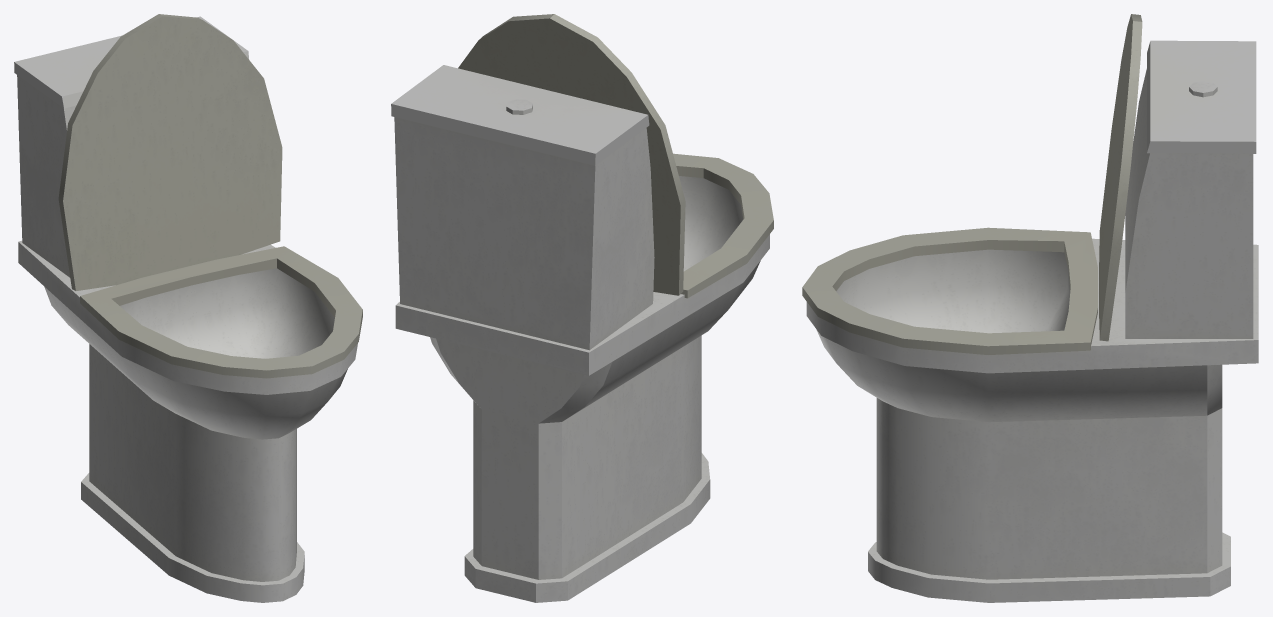
Rendered from Toilet.fbx.
3 views of the same model, side by side, from view 1: azimuth 30°, elevation 25°; view 2: azimuth 150°, elevation 25°; view 3: azimuth 270°, elevation 25° (orthographic). The views are drawn at different scales.
Parts seen in each view (by area): view 1: Cube.001, Cube.003; view 2: Cube.001, Cube.003; view 3: Cube.001, Cube.003.
Part boxes in pixels (<box>): Cube.001: <box>14,16,362,602</box>; Cube.003: <box>58,14,282,290</box>; Cube.001: <box>391,65,773,602</box>; Cube.003: <box>458,14,685,295</box>; Cube.001: <box>802,40,1258,602</box>; Cube.003: <box>1099,14,1142,341</box>.
Size of the model in its own units: 122 by 265 by 199.
1 material, 1 textured.
